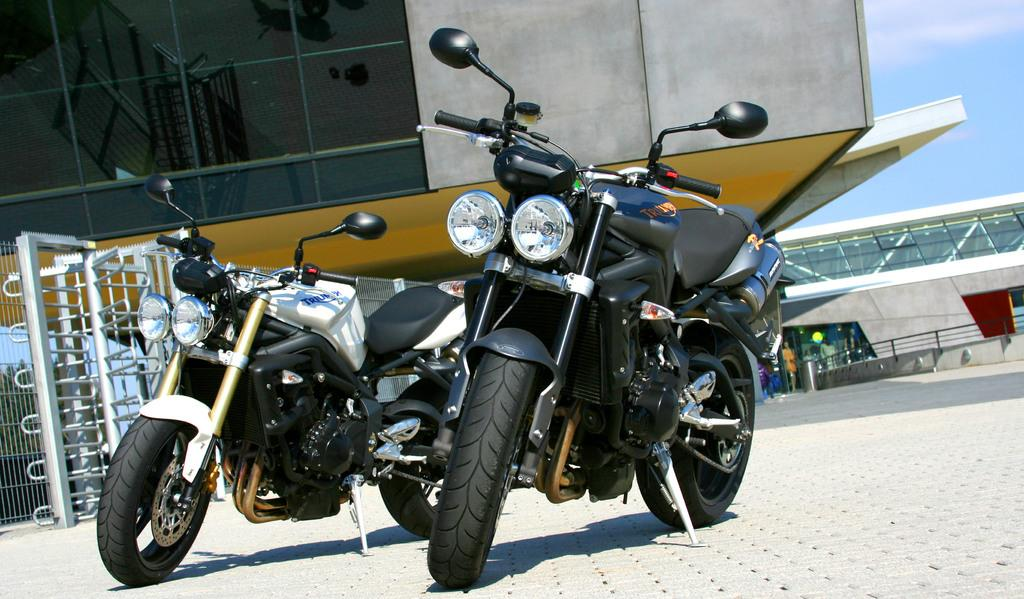Motorcycle: (416, 29, 793, 586), (97, 174, 463, 587)
